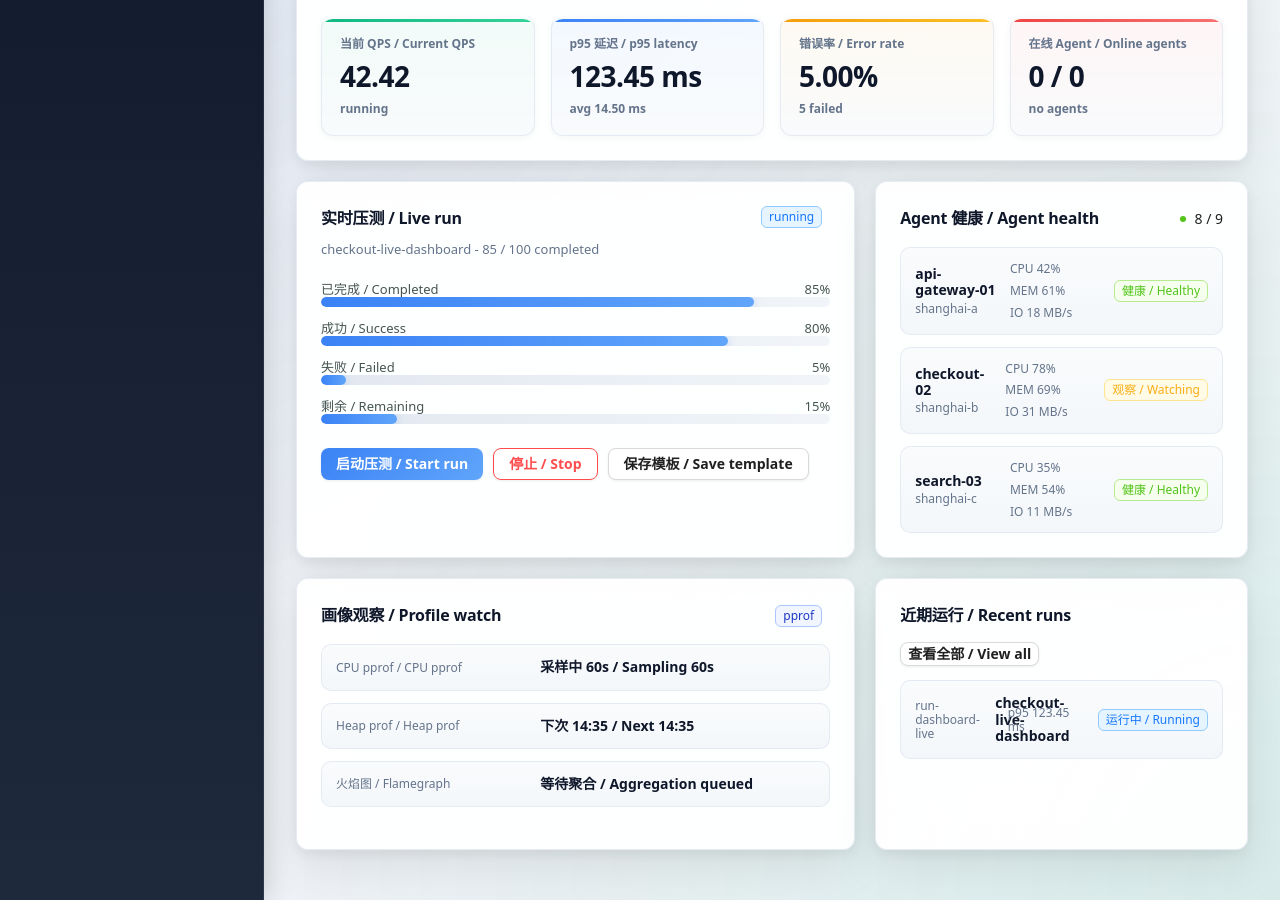
App › stops the active backend run from the dashboard
(page scrolled)
Expected: the text "run-dashboard-live" is shown, 915,699 -> 983,740
Click the button "停止 / Stop".
click(545, 464)  # box 493,448 -> 598,480
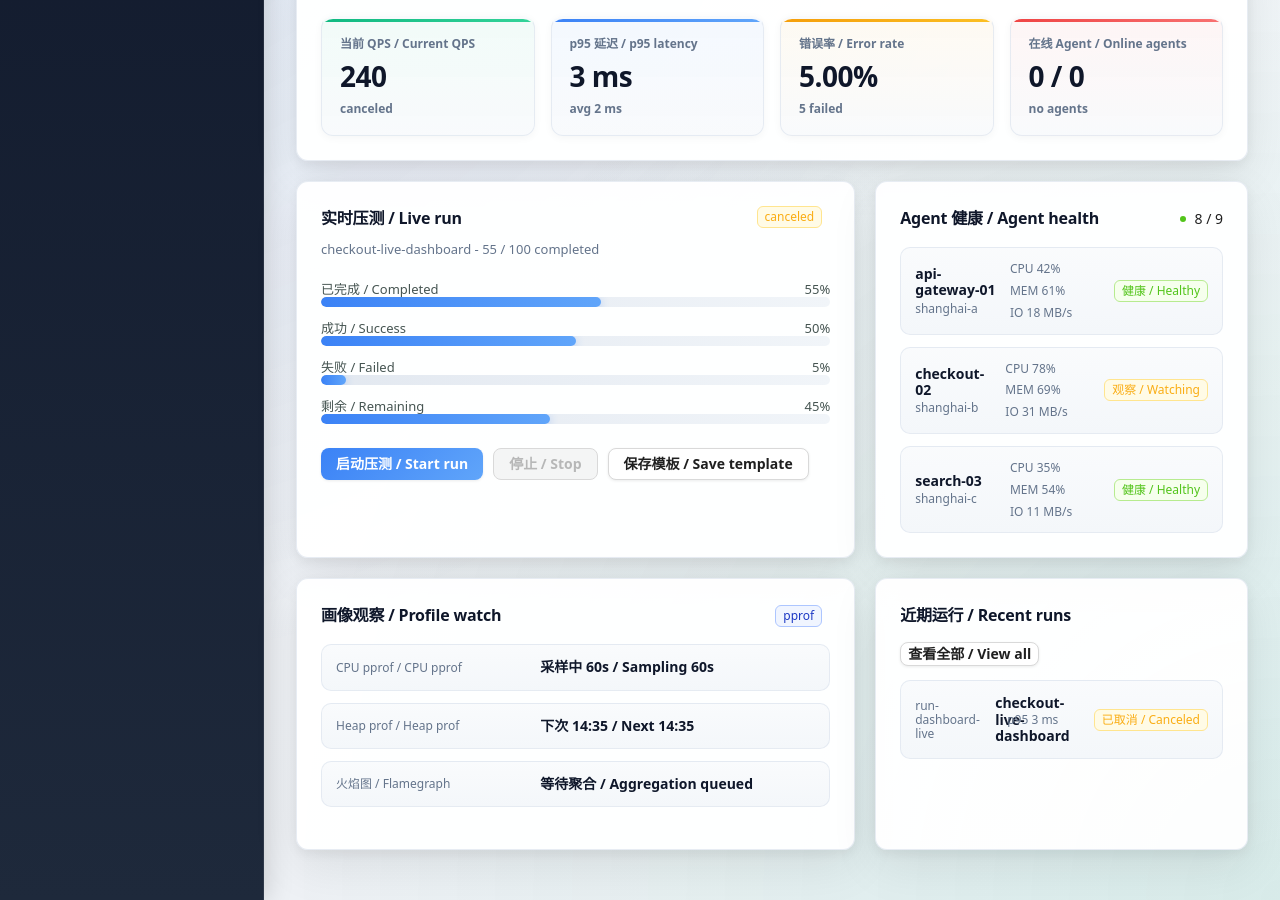
Now the text "canceled" below "240" is shown, box 340,100 -> 393,117
